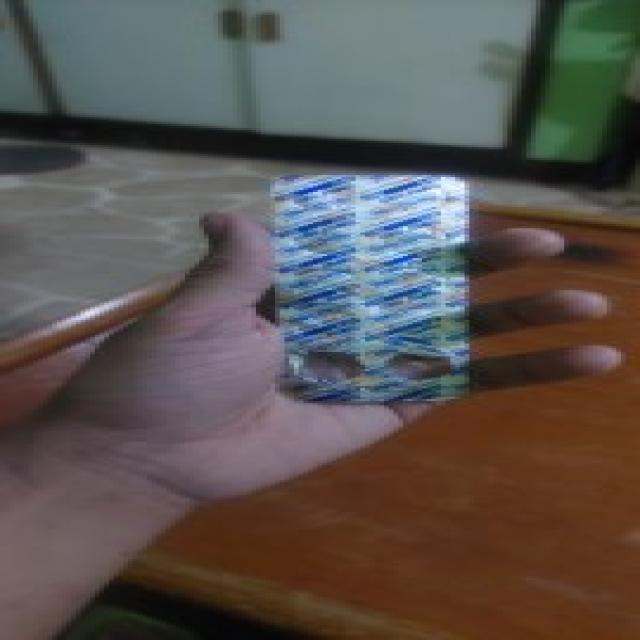Cacat: (274, 172, 467, 404)
Kemasan: (279, 345, 462, 390)
